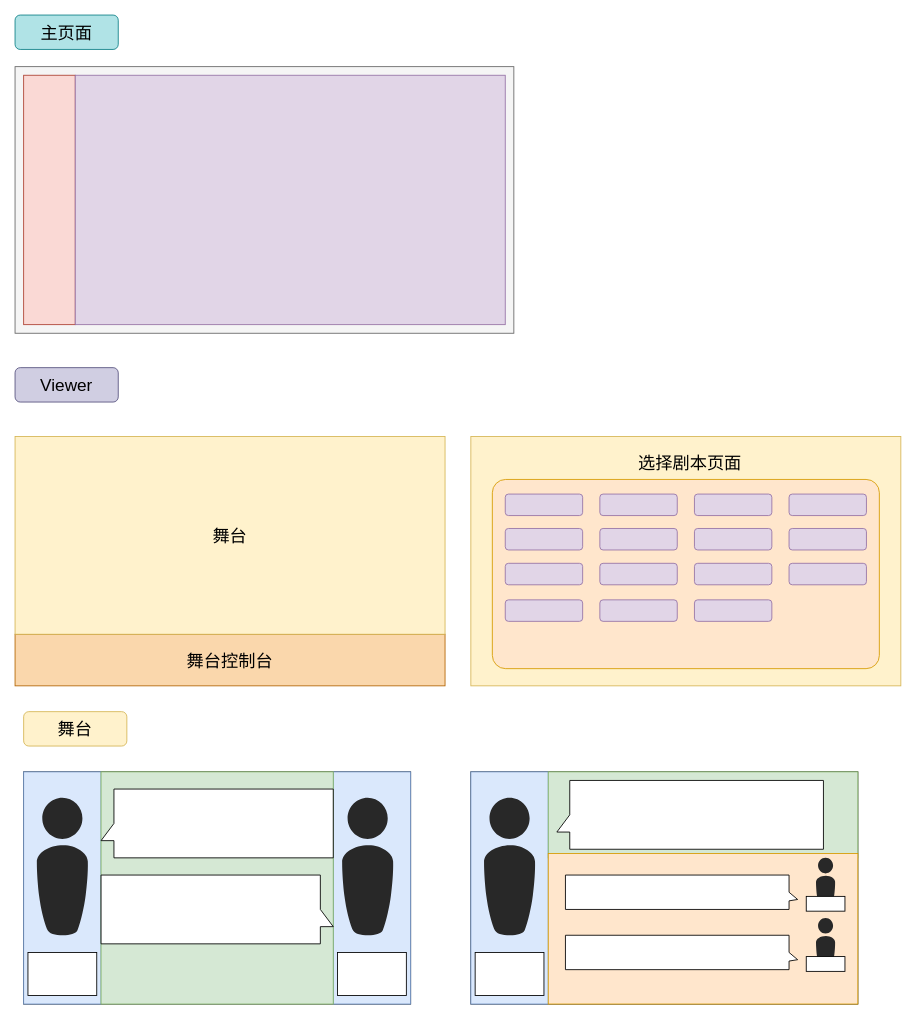
Image size: 916x1019. Some labels were removed from this diagram. Each missing label, with the box of its shape:
Viewer 页面: (74, 74, 505, 325)
导航: (23, 74, 75, 325)
